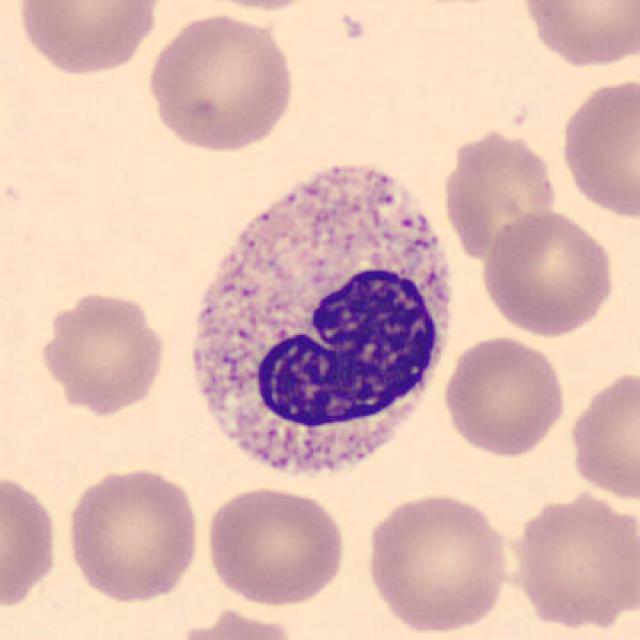Neutrophil: (172, 148, 468, 496)
RBC: (361, 488, 514, 636), (142, 11, 299, 155), (62, 462, 203, 605), (505, 485, 638, 631), (201, 483, 350, 610), (476, 206, 618, 338), (437, 124, 560, 266), (35, 287, 169, 416), (439, 333, 569, 460), (12, 0, 170, 79), (556, 74, 638, 222), (565, 365, 640, 504), (0, 466, 62, 616), (514, 0, 638, 71), (167, 606, 302, 640), (180, 0, 330, 14)
